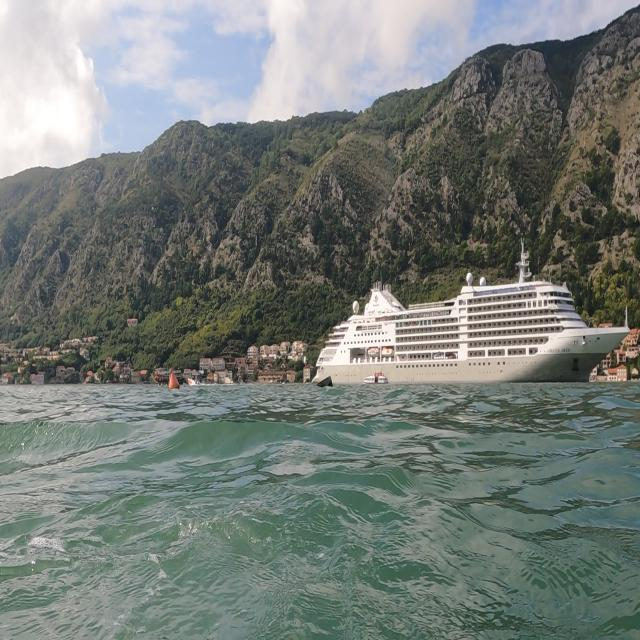boat: (309, 235, 631, 388)
buoy: (163, 364, 183, 394), (315, 374, 337, 394)
